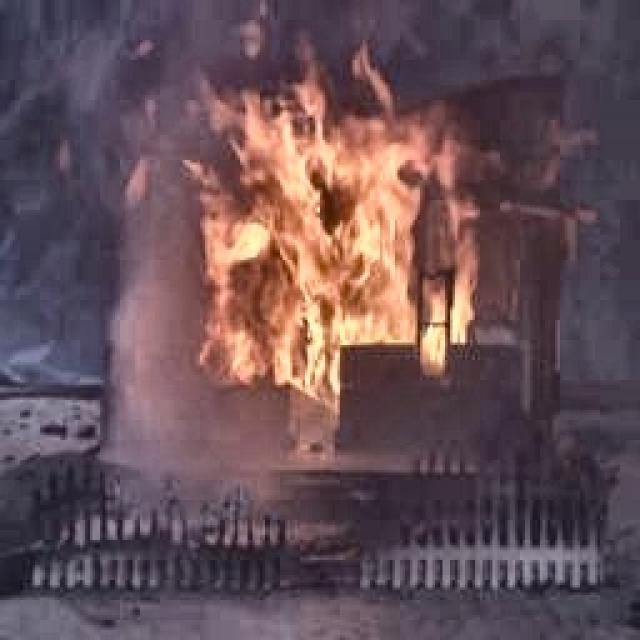fire: (137, 0, 494, 402)
